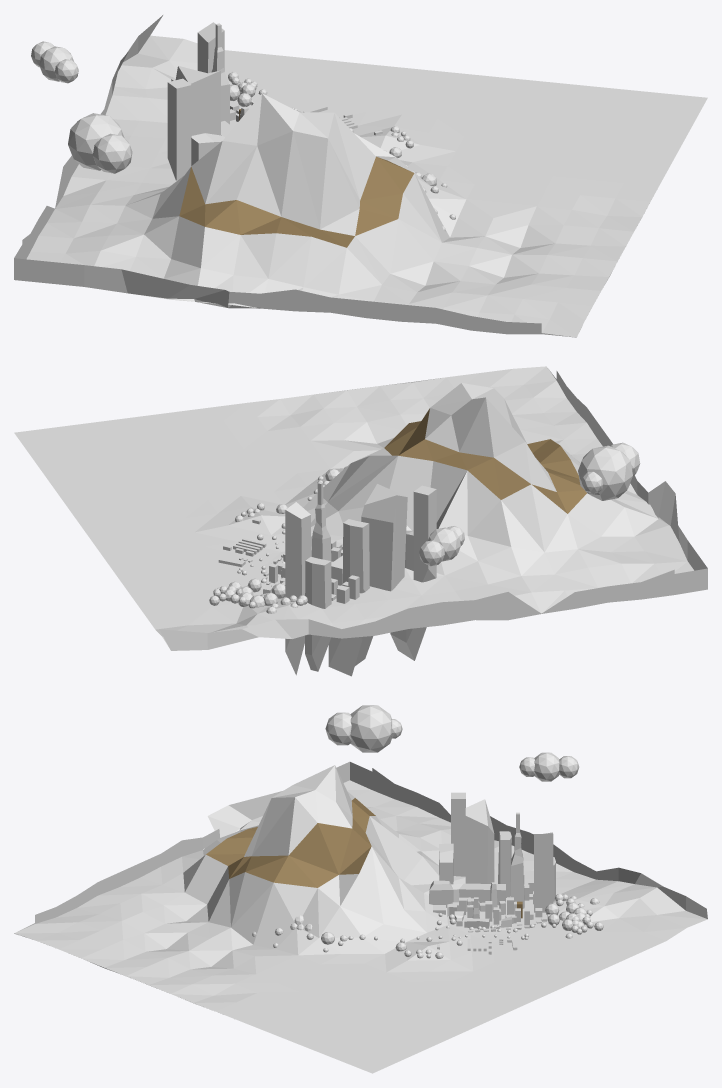
3 views of the same model, one above another, from view 1: azimuth 30°, elevation 25°; view 2: azimuth 150°, elevation 25°; view 3: azimuth 270°, elevation 25° (orthographic). The views are drawn at different scales.
Visible parts, largest first — view 1: Plane, Cube.002, Cube.001, Icosphere.088, Icosphere.089, Cube.006, Cube.003, Icosphere.085, Cube.005; view 2: Plane, Cube.001, Cube.006, Icosphere.088, Cube.059, Cube.002, Cube, Cube.004, Cube.005, Cube.003, Icosphere.085, Icosphere.086; view 3: Plane, Cube.001, Icosphere.088, Cube.006, Cube.004, Cube.002, Cube.003, Cube, Icosphere.089, Icosphere.085, Cube.005.
Boxes of the visible parts, x1,y1,x2,y2 form: Plane: (14, 15, 707, 337); Cube.002: (167, 78, 191, 180); Cube.001: (175, 66, 220, 135); Icosphere.088: (68, 113, 124, 170); Icosphere.089: (92, 133, 132, 173); Cube.006: (197, 22, 224, 73); Cube.003: (211, 23, 229, 124); Icosphere.085: (39, 46, 73, 81); Cube.005: (191, 133, 224, 165); Plane: (14, 366, 707, 650); Cube.001: (361, 484, 407, 639); Cube.006: (285, 502, 311, 675); Icosphere.088: (578, 445, 632, 500); Cube.059: (305, 557, 331, 671); Cube.002: (413, 485, 436, 582); Cube: (343, 519, 369, 593); Cube.004: (328, 555, 373, 676); Cube.005: (390, 530, 426, 660); Cube.003: (311, 482, 331, 560); Icosphere.085: (428, 527, 460, 561); Icosphere.086: (419, 540, 444, 566); Plane: (14, 761, 707, 1073); Cube.001: (465, 799, 494, 883); Icosphere.088: (350, 705, 391, 752); Cube.006: (534, 832, 553, 912); Cube.004: (429, 880, 505, 907); Cube.002: (451, 792, 465, 876); Cube.003: (511, 812, 524, 908); Cube: (498, 831, 511, 897); Icosphere.089: (325, 712, 351, 745); Icosphere.085: (534, 752, 559, 781); Cube.005: (439, 843, 453, 884).
Bounding box in the file's own units: 1406 × 473 × 1405.
